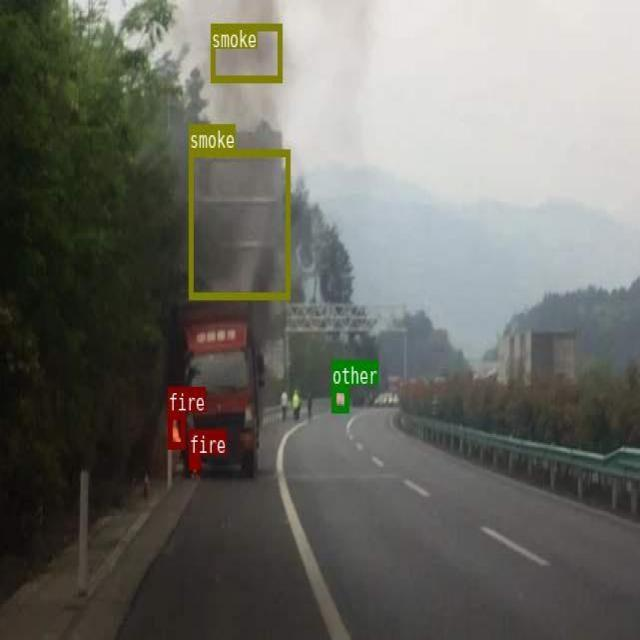fire: (167, 411, 185, 447), (188, 454, 199, 468)
smoke: (188, 149, 289, 298), (210, 24, 282, 82)
